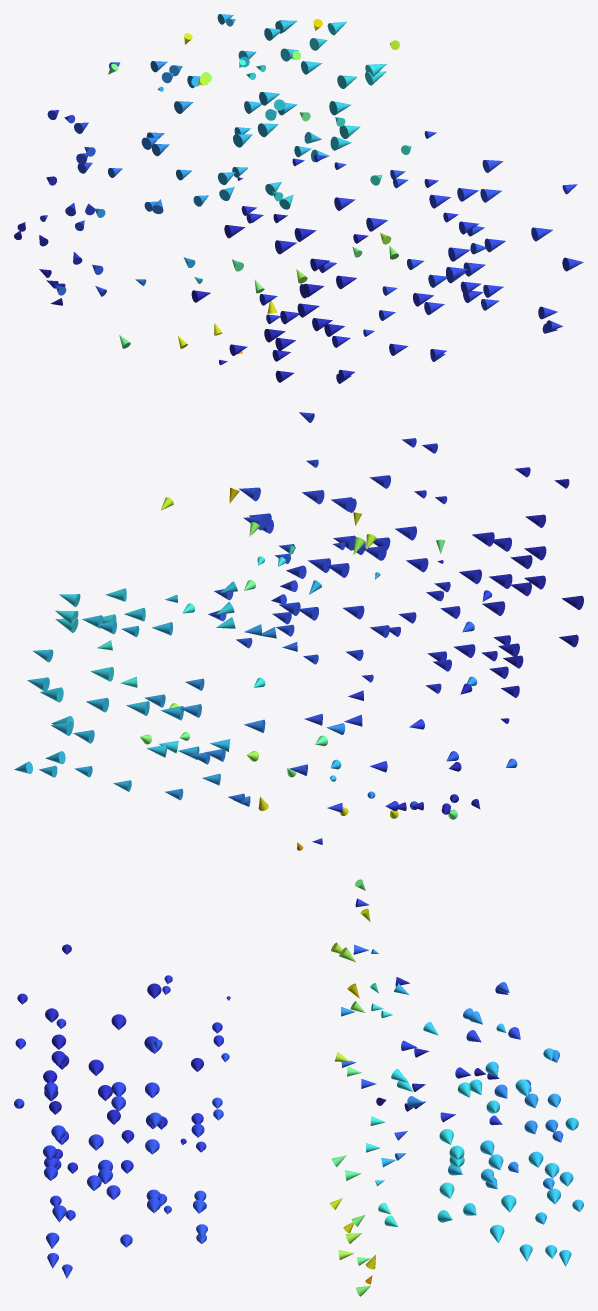
Rendered from LineasCorrienteN2-H2O_mh2-6.88_V-0.8.glb.
3 views of the same model, one above another, from view 1: azimuth 30°, elevation 25°; view 2: azimuth 150°, elevation 25°; view 3: azimuth 270°, elevation 25° (orthographic). The views are drawn at different scales.
Bounding box in the file's own units: 0.000986 × 0.000809 × 0.0012.
2 materials, 2 textured.
